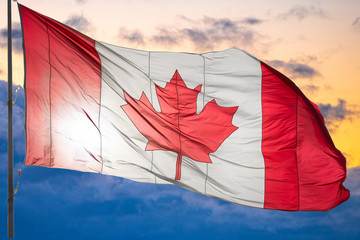Canada flag: (17, 3, 351, 213)
